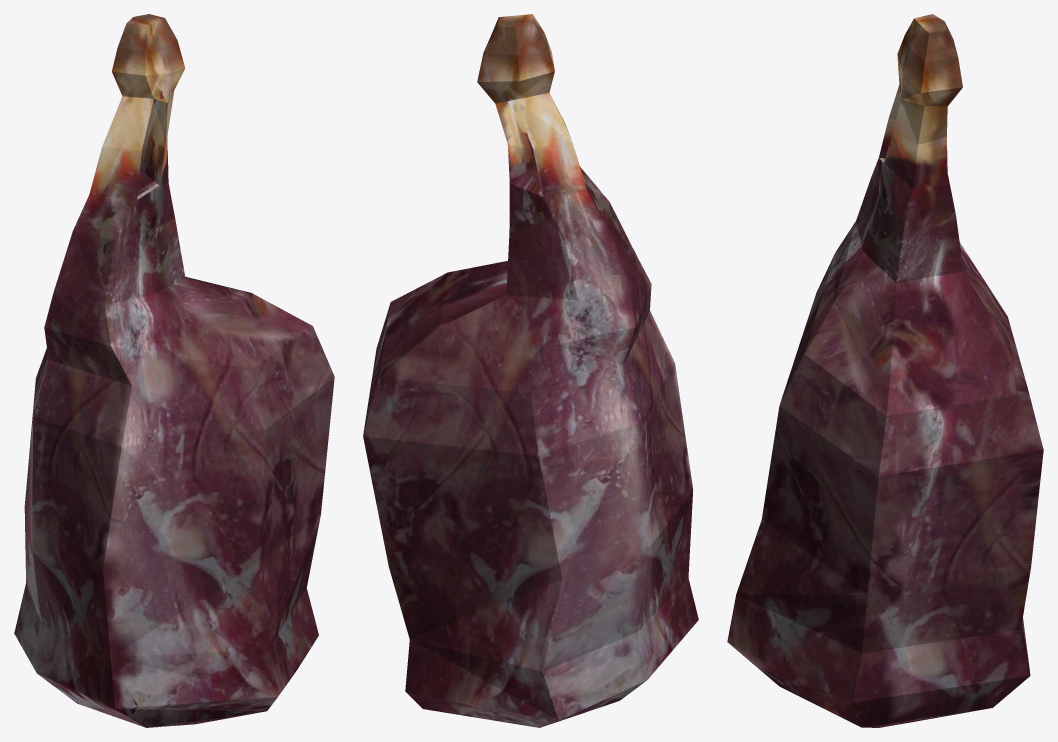
File: leg_meat.obj
3 views of the same model, side by side, from view 1: azimuth 30°, elevation 25°; view 2: azimuth 150°, elevation 25°; view 3: azimuth 270°, elevation 25° (orthographic). The views are drawn at different scales.
Visible parts, largest first — view 1: leg_meat; view 2: leg_meat; view 3: leg_meat.
Boxes of the visible parts, x1,y1,x2,y2 form: leg_meat: [14, 14, 334, 727]; leg_meat: [363, 14, 698, 727]; leg_meat: [727, 14, 1043, 727].
Size of the model in its own units: 0.3036 by 0.6998 by 0.2944.
1 material, 1 textured.
